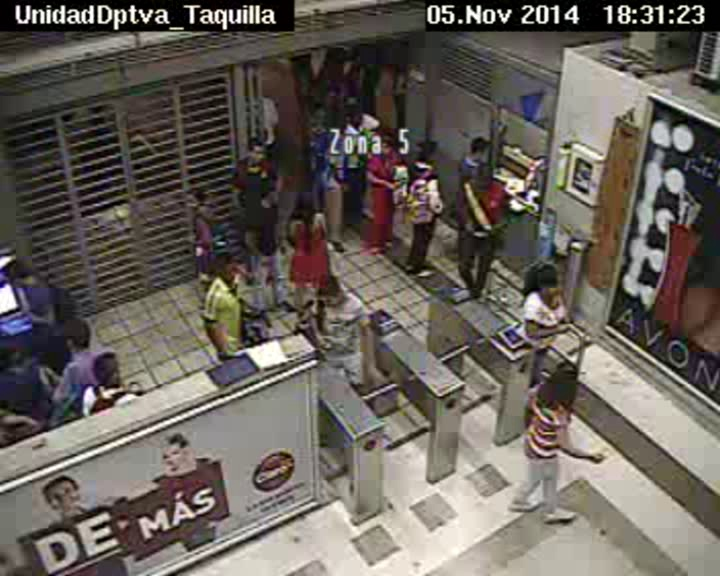person: (89, 350, 124, 387), (311, 273, 344, 309), (59, 315, 90, 349), (533, 263, 563, 297), (550, 360, 582, 391), (3, 258, 35, 289), (212, 252, 241, 283), (1, 339, 25, 372), (416, 137, 442, 164), (245, 138, 270, 164), (472, 162, 496, 186), (344, 104, 367, 128), (376, 134, 399, 157), (319, 85, 342, 108), (258, 184, 280, 208), (325, 106, 347, 130), (295, 195, 317, 218), (468, 135, 489, 157), (195, 189, 214, 210), (325, 50, 340, 69), (358, 47, 373, 63), (248, 81, 263, 96), (393, 58, 407, 71), (343, 49, 356, 62)
